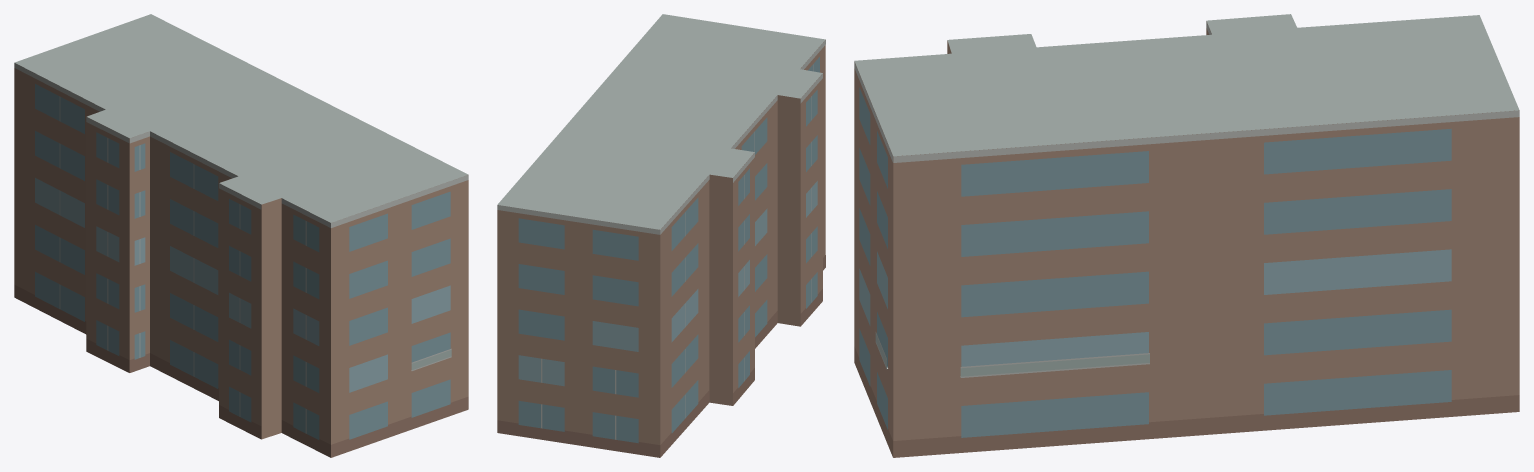
File: survey-upis-32706270.glb
3 views of the same model, side by side, from view 1: azimuth 30°, elevation 25°; view 2: azimuth 150°, elevation 25°; view 3: azimuth 270°, elevation 25° (orthographic). The views are drawn at different scales.
Parts seen in each view (by area): view 1: survey-upis-32706270.tmp; view 2: survey-upis-32706270.tmp; view 3: survey-upis-32706270.tmp.
Boxes of the visible parts, x1=… form: survey-upis-32706270.tmp: x1=14, y1=14, x2=468, y2=457; survey-upis-32706270.tmp: x1=497, y1=14, x2=825, y2=457; survey-upis-32706270.tmp: x1=854, y1=14, x2=1519, y2=457.
Bounding box in the file's own units: 11.15 × 11 × 22.01.
